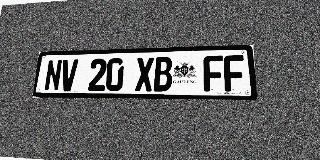0: (105, 58, 124, 91)
2: (88, 58, 107, 91)
B: (154, 57, 172, 91)
F: (223, 55, 246, 92), (203, 55, 224, 91)
N: (44, 59, 63, 91)
V: (59, 59, 78, 91)
X: (135, 57, 154, 91)
